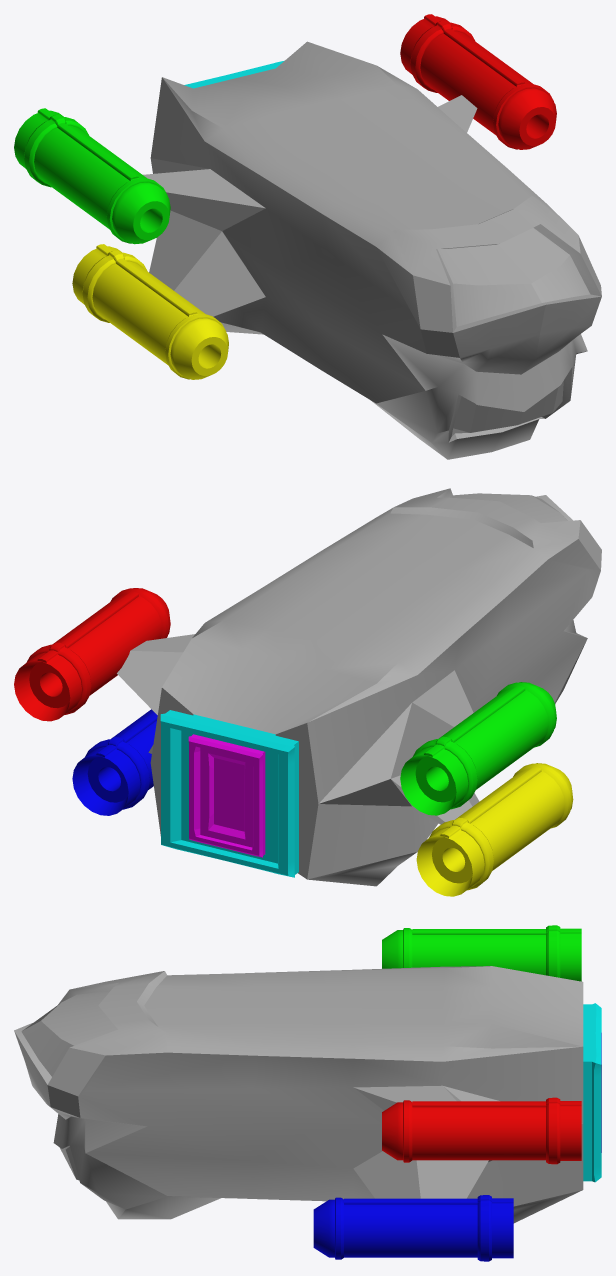
Rendered from VAISSEAUSPACE.fbx.
3 views of the same model, one above another, from view 1: azimuth 30°, elevation 25°; view 2: azimuth 150°, elevation 25°; view 3: azimuth 270°, elevation 25° (orthographic). The views are drawn at different scales.
Parts seen in each view (by area): view 1: MESH_CAPSULE, MOTEUR_I, MOTEUR_II, MOTEUR_III; view 2: MESH_CAPSULE, CADRE_PORTE, MOTEUR_II, MOTEUR_I, MOTEUR_III, PORTE, MOTEUR_IV; view 3: MESH_CAPSULE, MOTEUR_IV, MOTEUR_III, MOTEUR_I, CADRE_PORTE.
Boxes of the visible parts, box(x1,y1,x2,y2) form: MESH_CAPSULE: box(143, 41, 601, 459); MOTEUR_I: box(14, 108, 170, 244); MOTEUR_II: box(72, 244, 228, 379); MOTEUR_III: box(400, 14, 556, 149); MESH_CAPSULE: box(117, 488, 601, 886); CADRE_PORTE: box(160, 710, 298, 877); MOTEUR_II: box(416, 763, 573, 896); MOTEUR_I: box(400, 682, 556, 815); MOTEUR_III: box(14, 588, 170, 721); PORTE: box(188, 734, 265, 857); MOTEUR_IV: box(72, 709, 157, 815); MESH_CAPSULE: box(14, 966, 583, 1223); MOTEUR_IV: box(313, 1195, 513, 1261); MOTEUR_III: box(382, 1097, 581, 1164); MOTEUR_I: box(382, 925, 581, 981); CADRE_PORTE: box(583, 1003, 601, 1182).
Bounding box in the file's own units: 10.37 × 4.81 × 12.87.
